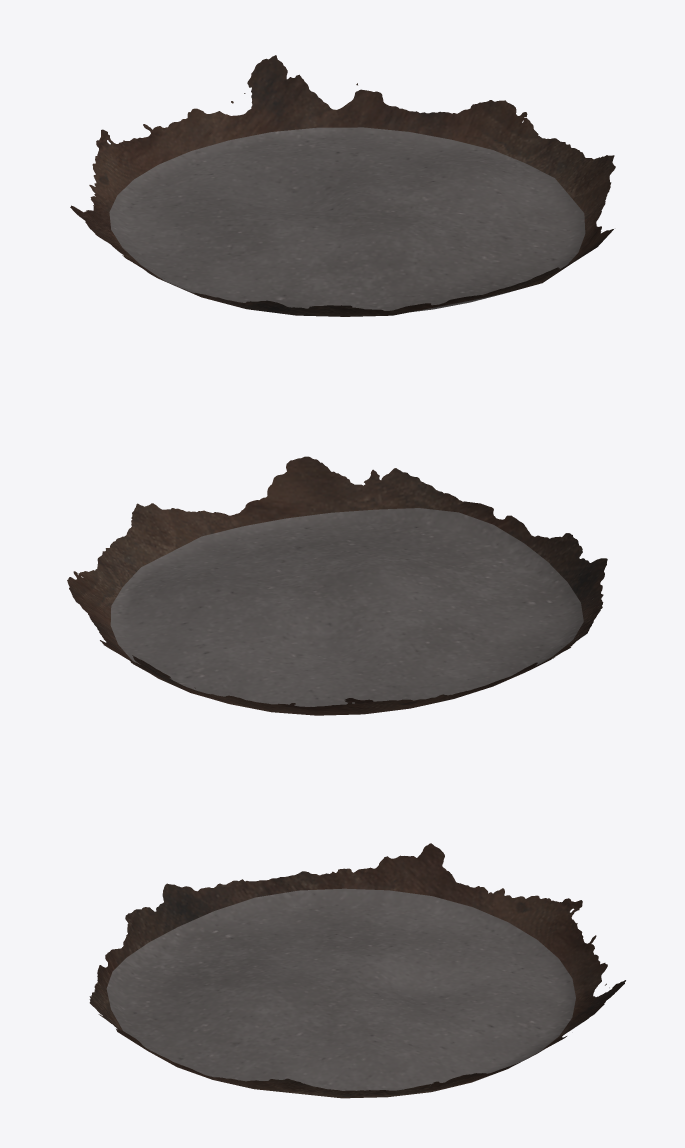
File: SM_WoodBowls_Bowl1_powder.fbx
The picture shows the model from 3 angles, top to bottom: view 1: azimuth 30°, elevation 25°; view 2: azimuth 150°, elevation 25°; view 3: azimuth 270°, elevation 25°; orthographic projection. The views are drawn at different scales.
Visible parts, largest first — view 1: SM_WoodBowls_Bowl1_powder_LOD0; view 2: SM_WoodBowls_Bowl1_powder_LOD0; view 3: SM_WoodBowls_Bowl1_powder_LOD0.
Boxes of the visible parts, x1,y1,x2,y2 form: SM_WoodBowls_Bowl1_powder_LOD0: [70, 55, 615, 316]; SM_WoodBowls_Bowl1_powder_LOD0: [67, 456, 607, 715]; SM_WoodBowls_Bowl1_powder_LOD0: [89, 843, 625, 1098].
Bounding box in the file's own units: 28.86 × 28.97 × 7.69.
